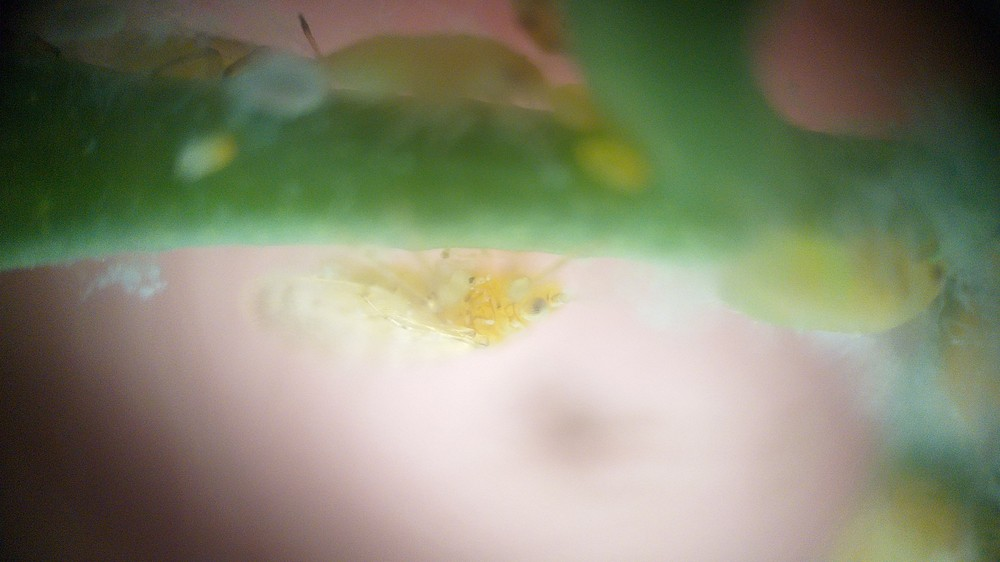Mosca Blanca: (234, 215, 606, 400)
